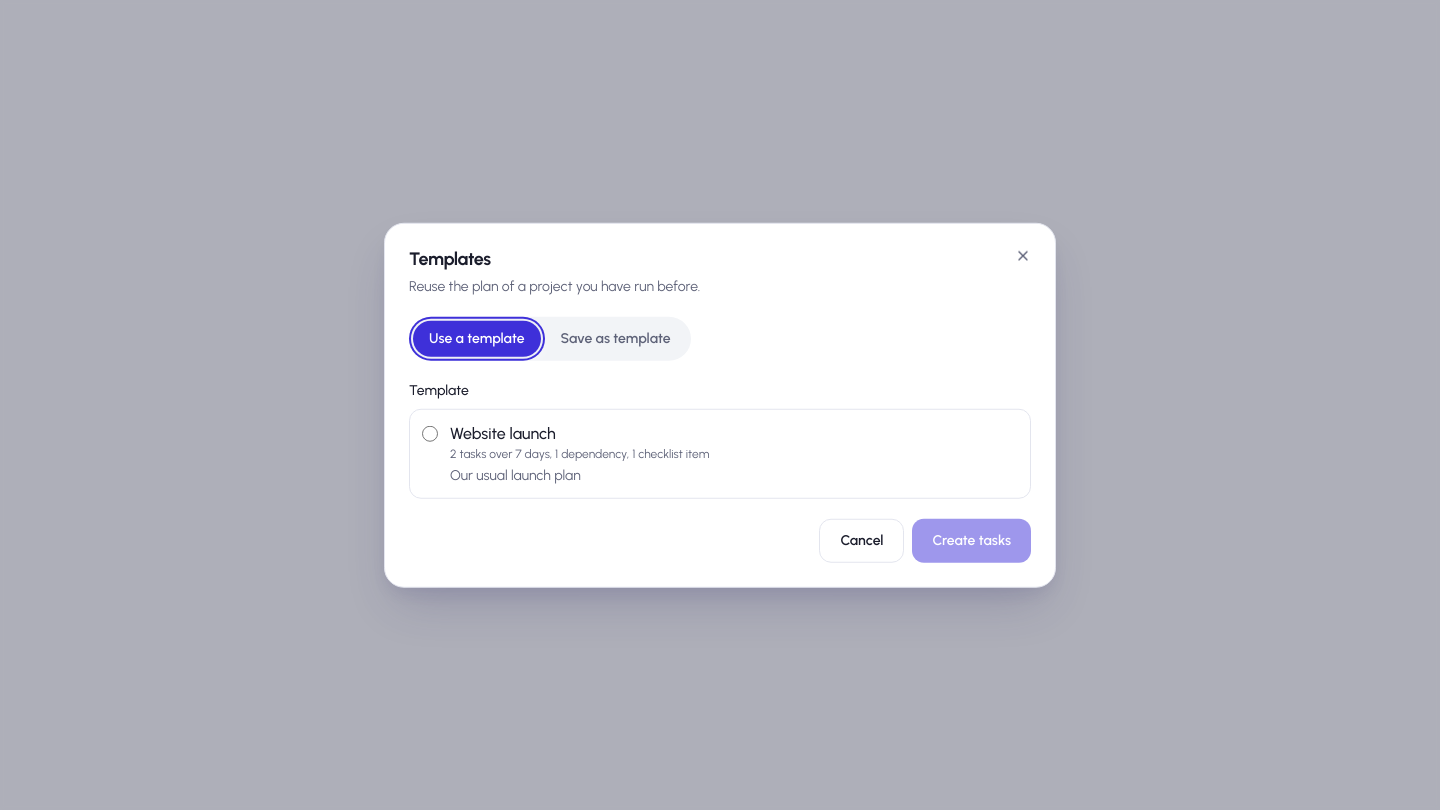
it: using a template › lays the plan out from the chosen start date and creates it in the chosen project
Click the radio button labelled "Website launch" at (430, 433), box x1=422 y1=425 x2=438 y2=441
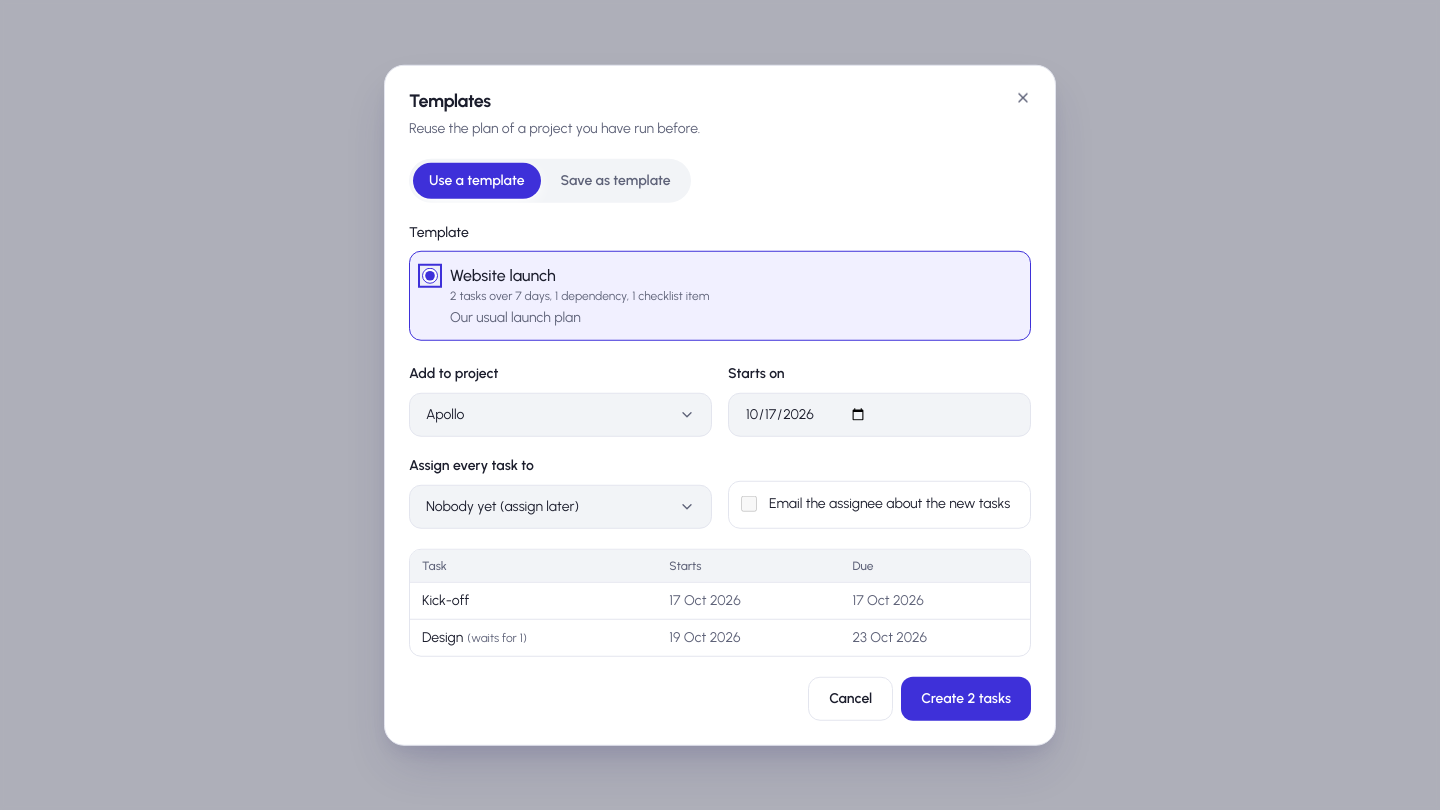
Type "2026-11-02" into the date field labelled "Starts on" at (880, 414), box x1=728 y1=392 x2=1031 y2=436
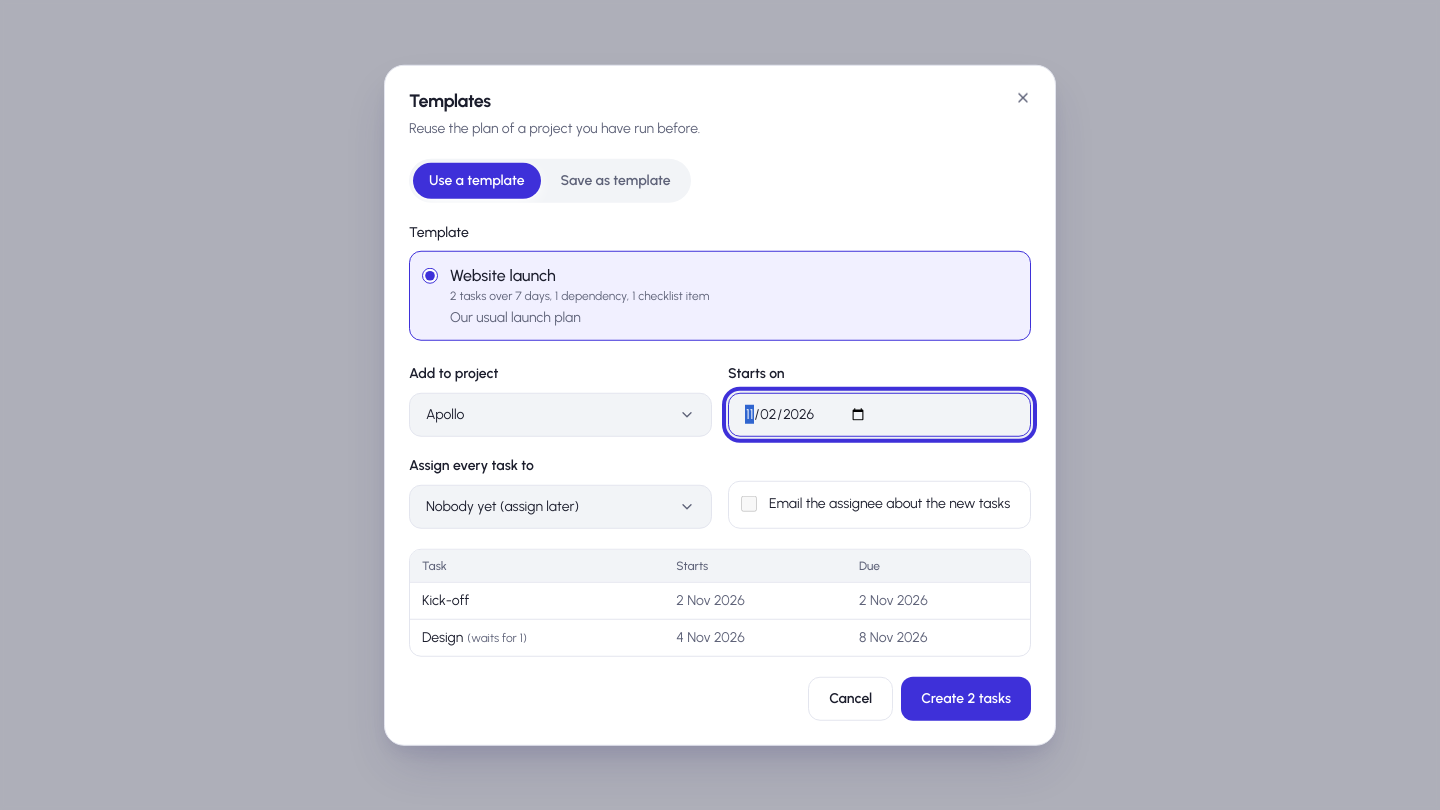
Now the row "Kick-off 2 Nov 2026 2 Nov 2026" is shown, box x1=410 y1=582 x2=1030 y2=619
Now the row "Design(waits for 1) 4 Nov 2026 8 Nov 2026" is shown, box x1=410 y1=619 x2=1030 y2=655
Click the button "Create 2 tasks" at (966, 698), box x1=901 y1=676 x2=1031 y2=720
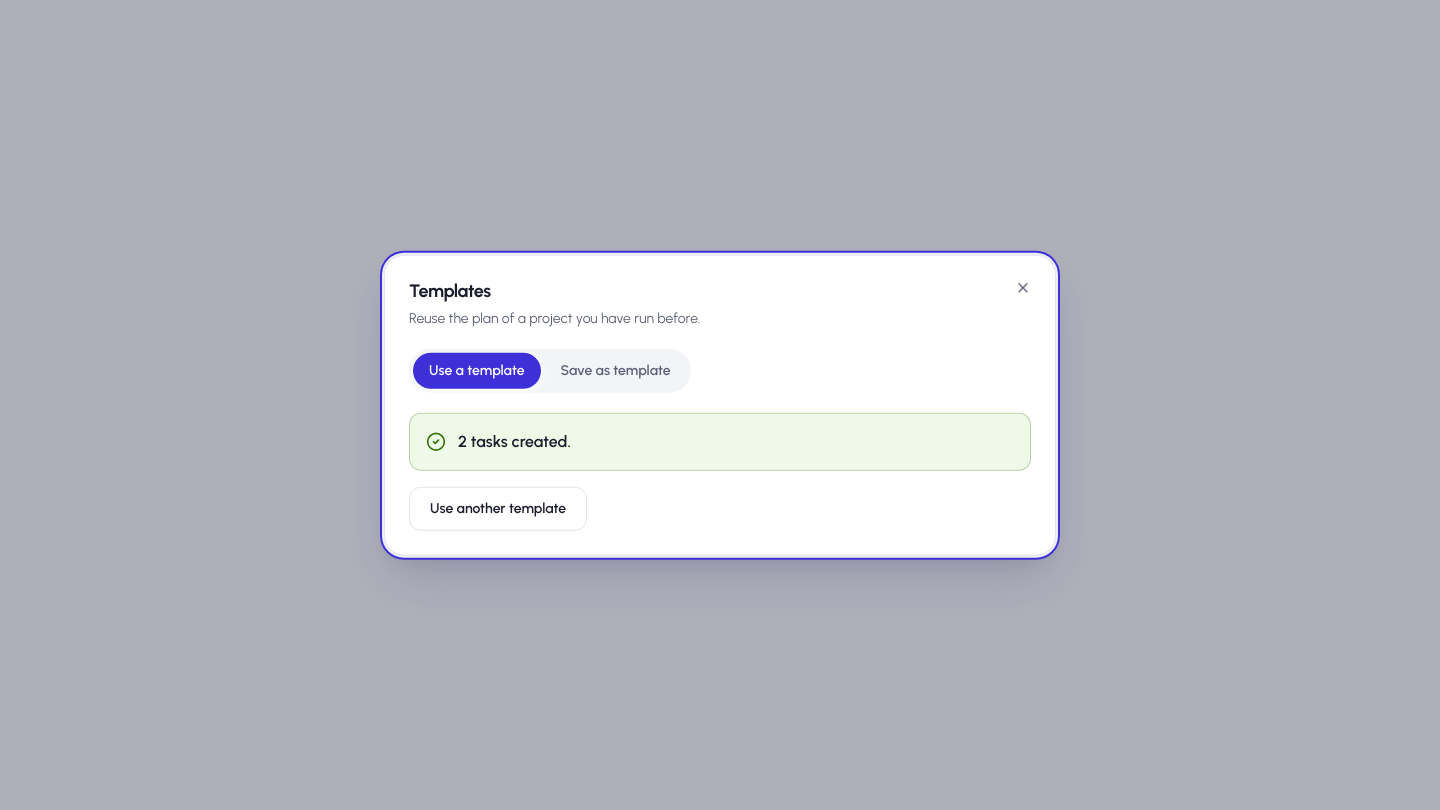
Now the text "2 tasks created." is shown, box x1=458 y1=429 x2=571 y2=453
